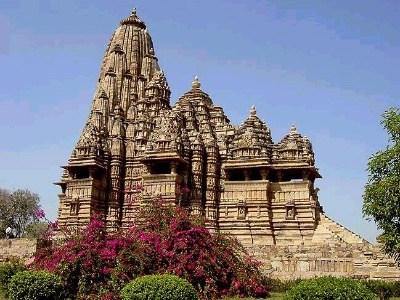amalaka: (114, 15, 154, 31)
gopuram: (92, 27, 170, 128)
mandapa: (222, 154, 323, 196), (56, 152, 110, 186), (138, 151, 192, 179)
